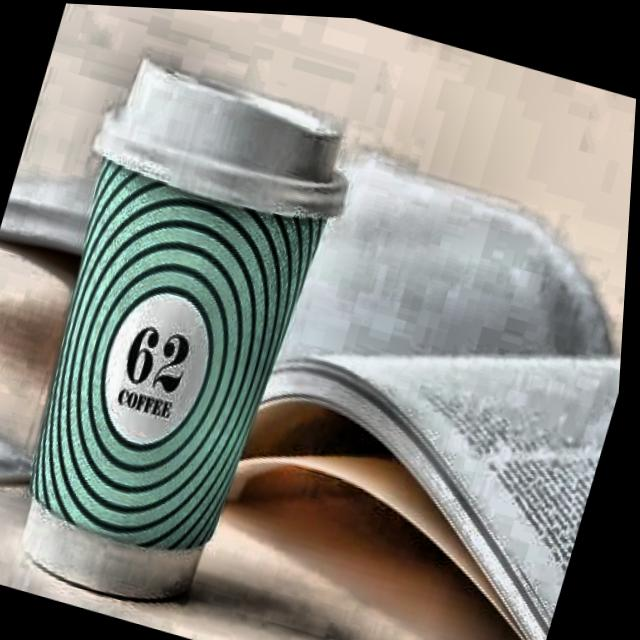Cup: (0, 54, 370, 627)
